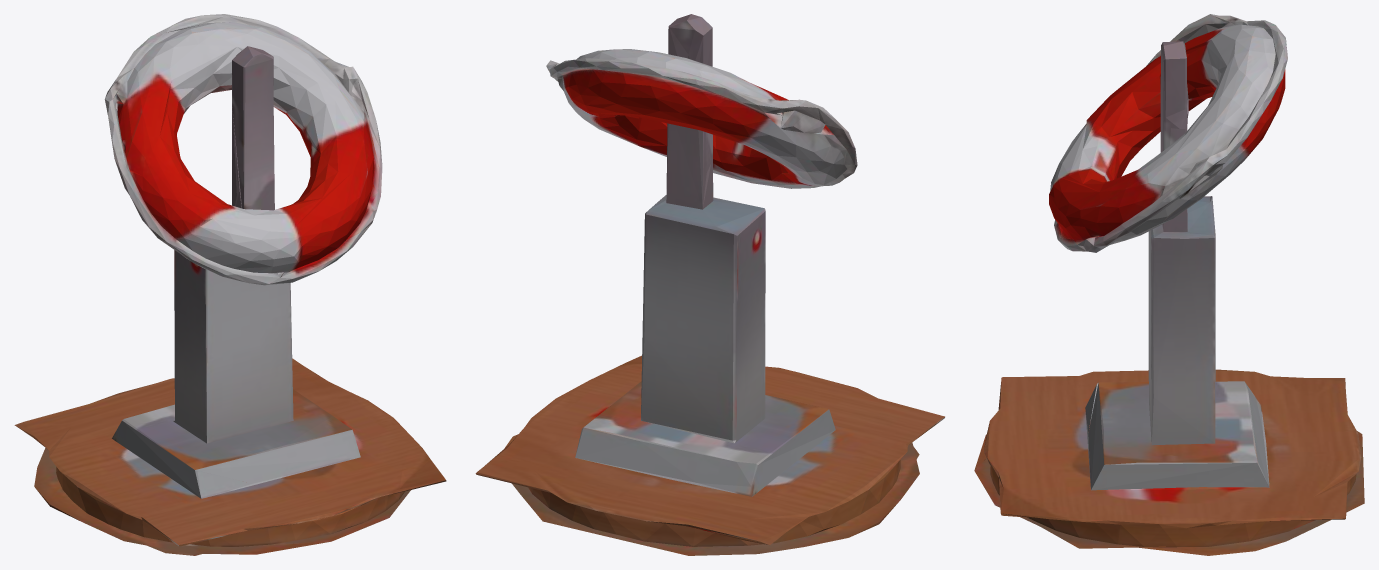
File: life_buoy.glb
3 views of the same model, side by side, from view 1: azimuth 30°, elevation 25°; view 2: azimuth 150°, elevation 25°; view 3: azimuth 270°, elevation 25° (orthographic). The views are drawn at different scales.
Parts seen in each view (by area): view 1: textured_mesh.obj; view 2: textured_mesh.obj; view 3: textured_mesh.obj.
Boxes of the visible parts, x1,y1,x2,y2 form: textured_mesh.obj: [14, 14, 446, 555]; textured_mesh.obj: [475, 14, 944, 555]; textured_mesh.obj: [974, 14, 1364, 555].
Bounding box in the file's own units: 1.02 × 1.2 × 0.9657.
1 material, 1 textured.
